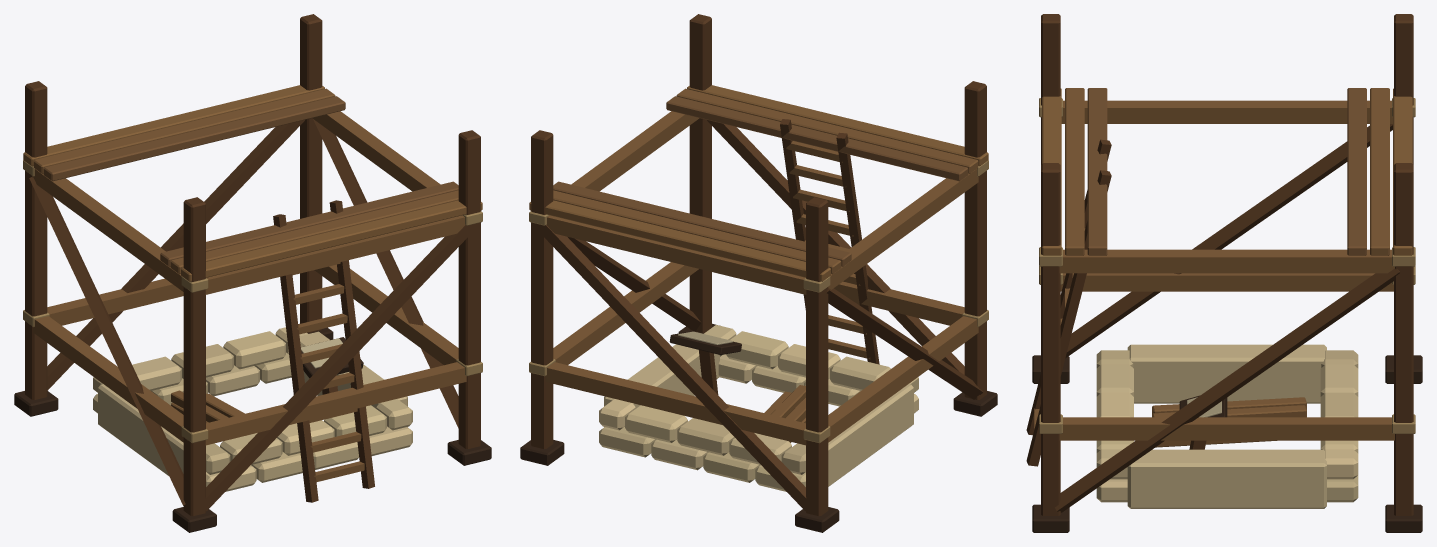
File: scaffolding.glb
The picture shows the model from 3 angles, left to right: view 1: azimuth 30°, elevation 25°; view 2: azimuth 150°, elevation 25°; view 3: azimuth 270°, elevation 25°; orthographic projection. The views are drawn at different scales.
Visible parts, largest first — view 1: Timber, Stone, Fabric; view 2: Timber, Stone, Fabric; view 3: Timber, Stone, Fabric.
Part boxes in pixels (box(x1,y1,x2,y2)): Timber: box(14, 14, 491, 532); Stone: box(93, 327, 412, 491); Fabric: box(23, 160, 482, 443); Timber: box(520, 14, 997, 532); Stone: box(599, 325, 918, 491); Fabric: box(529, 160, 988, 443); Timber: box(1026, 14, 1422, 532); Stone: box(1096, 344, 1358, 508); Fabric: box(1039, 98, 1415, 433).
Size of the model in its own units: 3.76 by 3.82 by 3.82.
